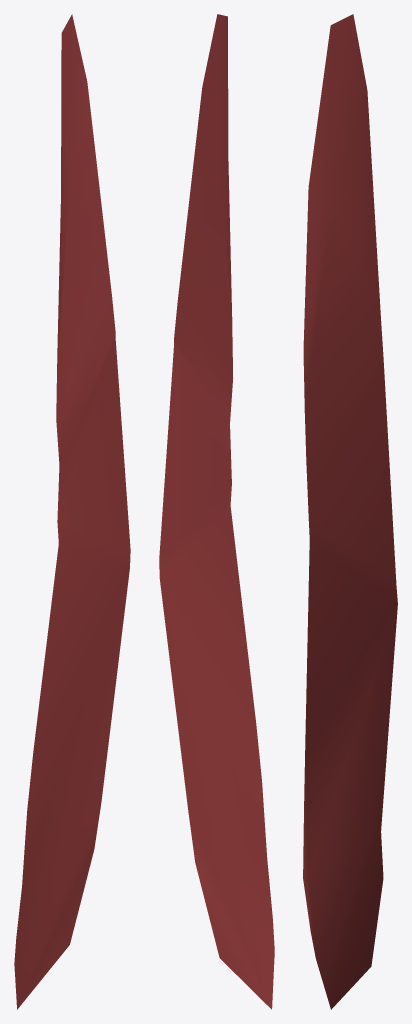
The model's file is flexor-digitorum-longus-ol.glb.
The picture shows the model from 3 angles, left to right: view 1: azimuth 30°, elevation 25°; view 2: azimuth 210°, elevation 25°; view 3: azimuth 330°, elevation 25°; orthographic projection. The views are drawn at different scales.
Visible parts, largest first — view 1: Flexor digitorum longus.ol; view 2: Flexor digitorum longus.ol; view 3: Flexor digitorum longus.ol.
Boxes of the visible parts, x1,y1,x2,y2 form: Flexor digitorum longus.ol: (14, 14, 130, 1009); Flexor digitorum longus.ol: (159, 14, 274, 1009); Flexor digitorum longus.ol: (303, 14, 397, 1009).
Size of the model in its own units: 0.0153 by 0.1449 by 0.00882.
